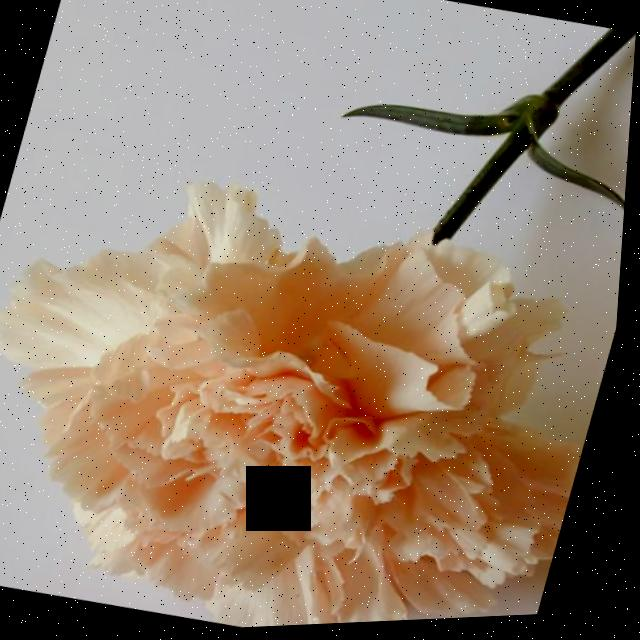carnation: (0, 134, 632, 640)
